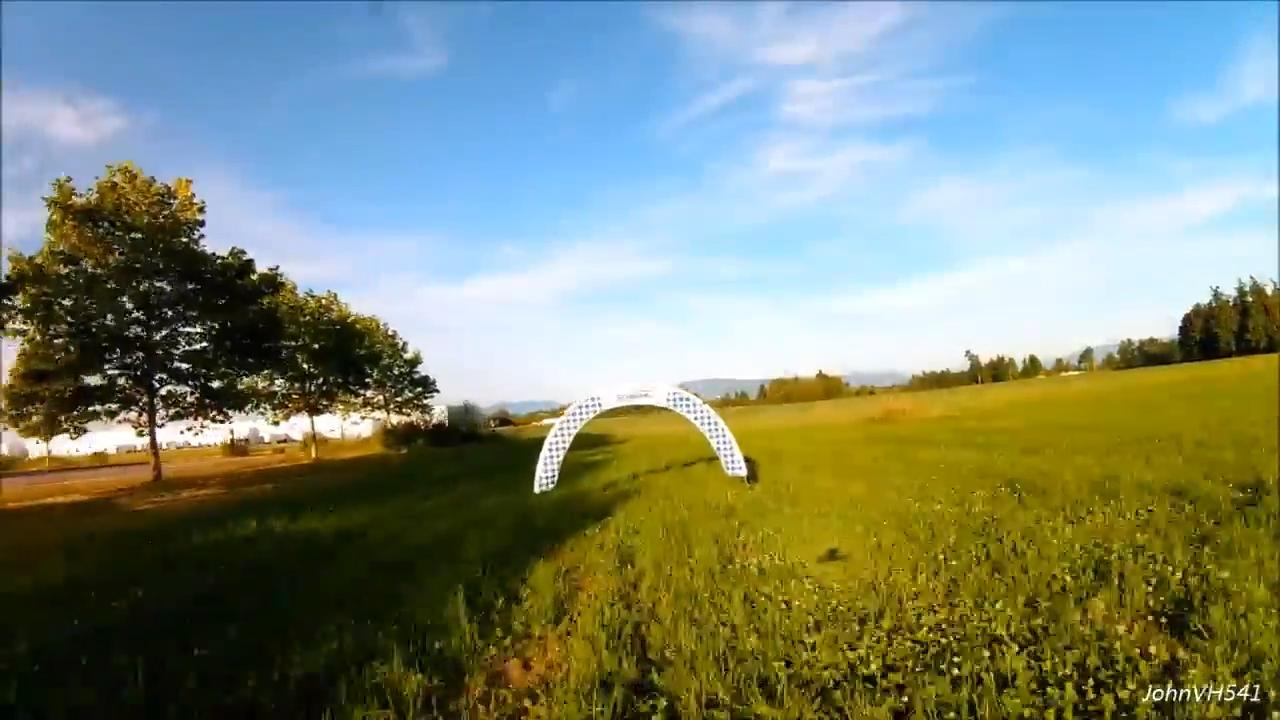gate: (528, 382, 743, 492)
